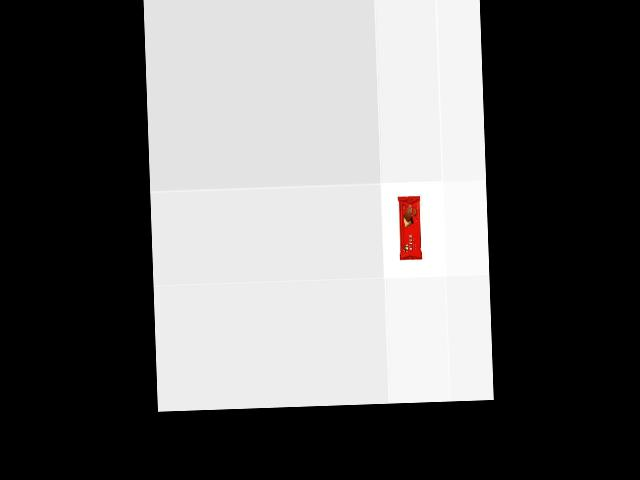chocolate: (397, 196, 423, 262)
